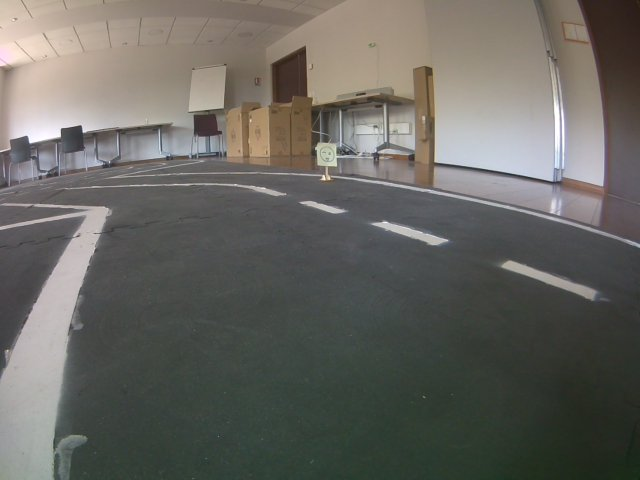Smiley: (316, 142, 338, 168)
